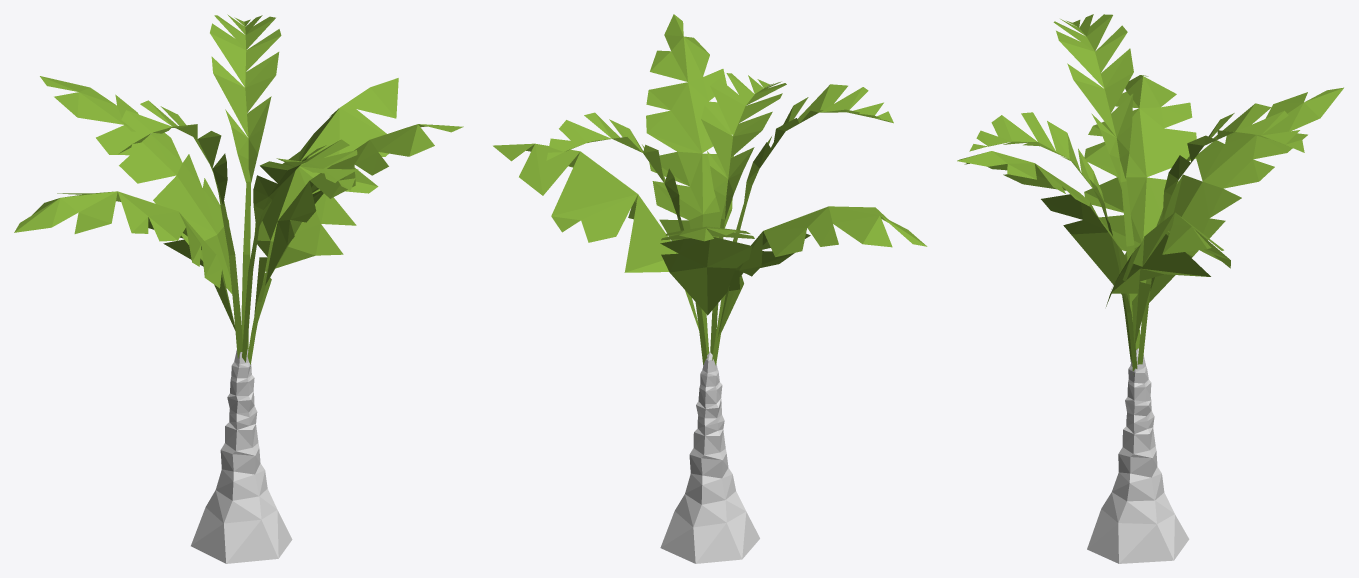
Rendered from SM_Tree_Palm_Young_A.fbx.
3 views of the same model, side by side, from view 1: azimuth 30°, elevation 25°; view 2: azimuth 150°, elevation 25°; view 3: azimuth 270°, elevation 25° (orthographic). The views are drawn at different scales.
Parts seen in each view (by area): view 1: tree-palm-young-a; view 2: tree-palm-young-a; view 3: tree-palm-young-a.
Part boxes in pixels (x1,y1,x2,y2): tree-palm-young-a: (14,14,463,563); tree-palm-young-a: (493,14,927,563); tree-palm-young-a: (957,14,1343,563).
Bounding box in the file's own units: 2.5 × 2.7 × 2.03.
